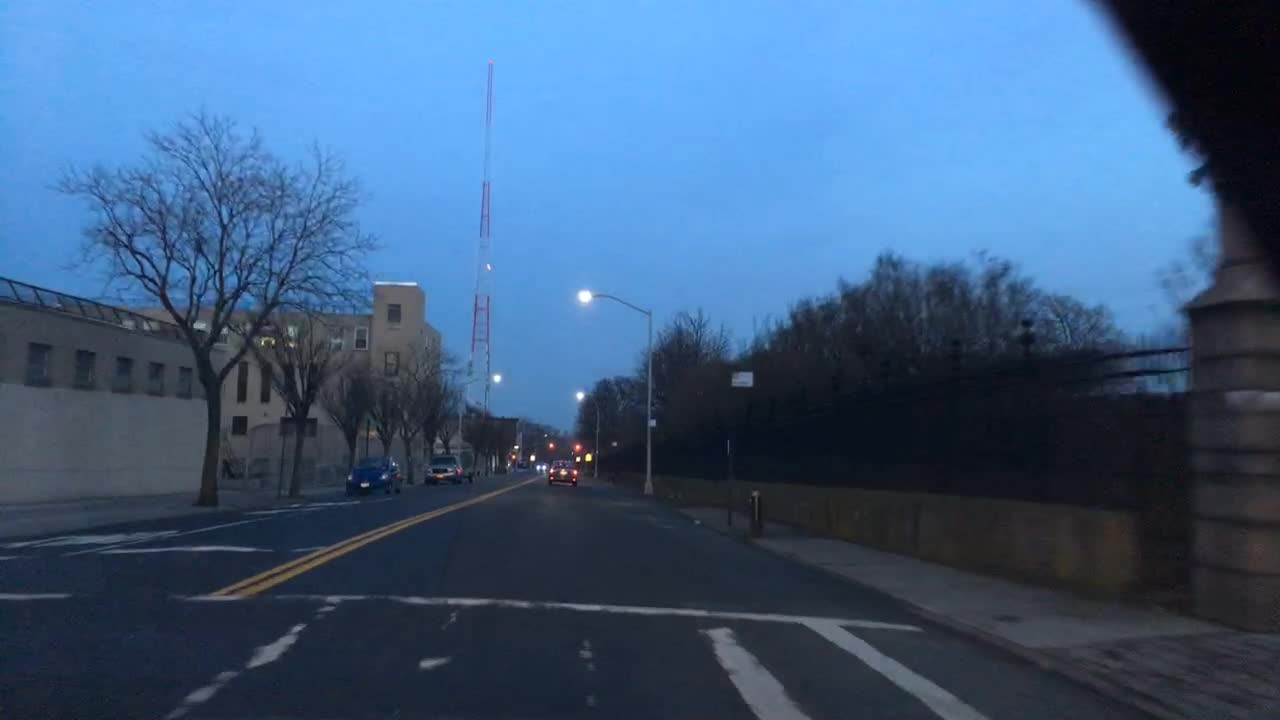car: (342, 455, 401, 497), (422, 453, 472, 482), (543, 460, 577, 485), (513, 460, 531, 477), (533, 462, 550, 475)
traffic light: (584, 450, 590, 465), (572, 440, 577, 453), (548, 438, 550, 453)
